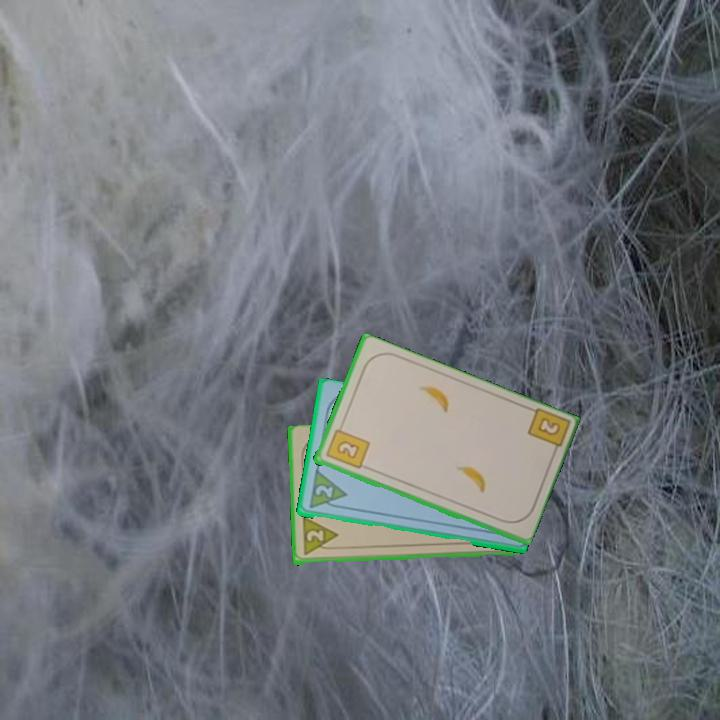2b: (523, 405, 570, 460), (322, 421, 372, 472)
2p: (299, 515, 340, 558), (311, 482, 336, 502)
